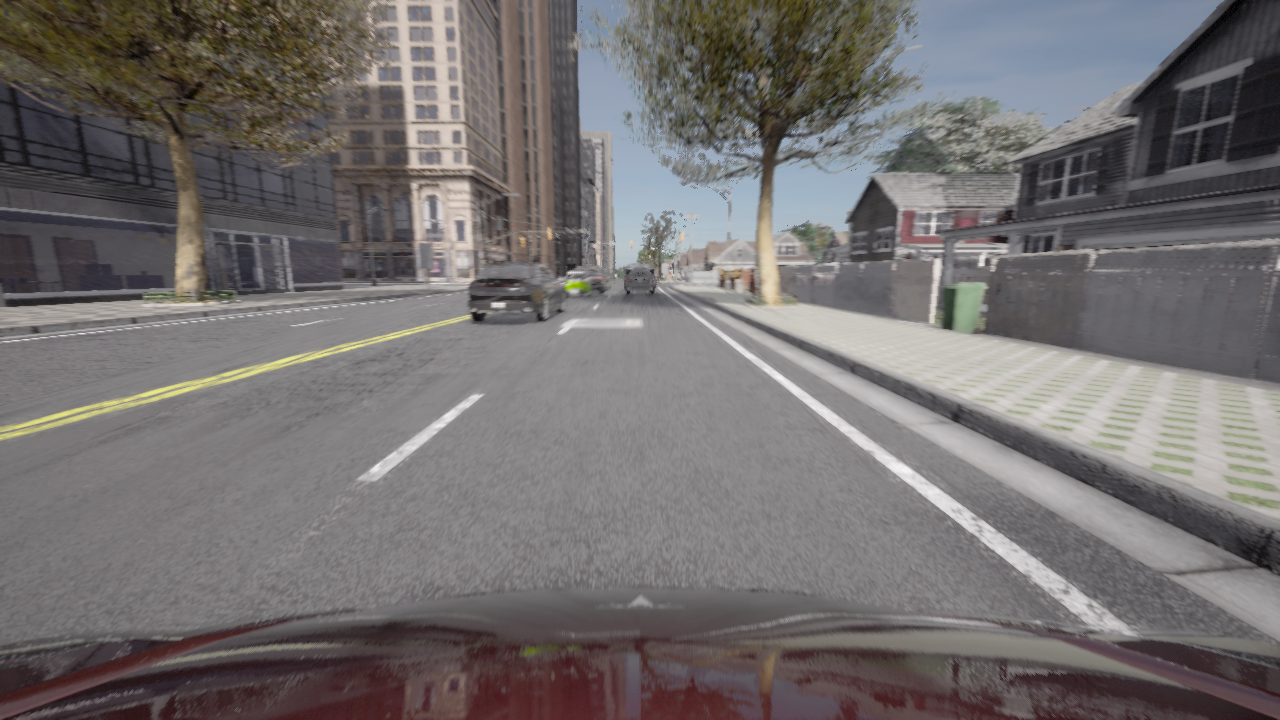cyclist: (0, 588, 1279, 719), (467, 262, 565, 322), (623, 262, 656, 290), (574, 267, 607, 293), (564, 271, 591, 298), (625, 268, 653, 294), (601, 270, 611, 290)
